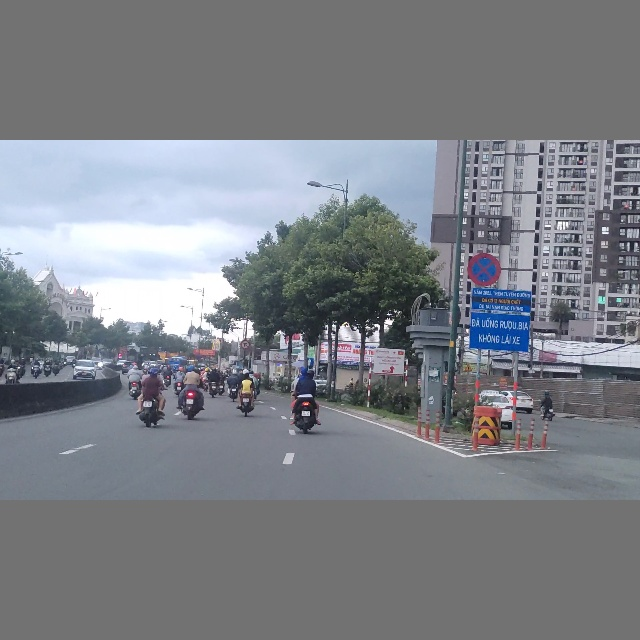I.407a: (307, 358, 314, 366)
P.123b: (241, 340, 250, 349)
P.130: (467, 252, 500, 287)
